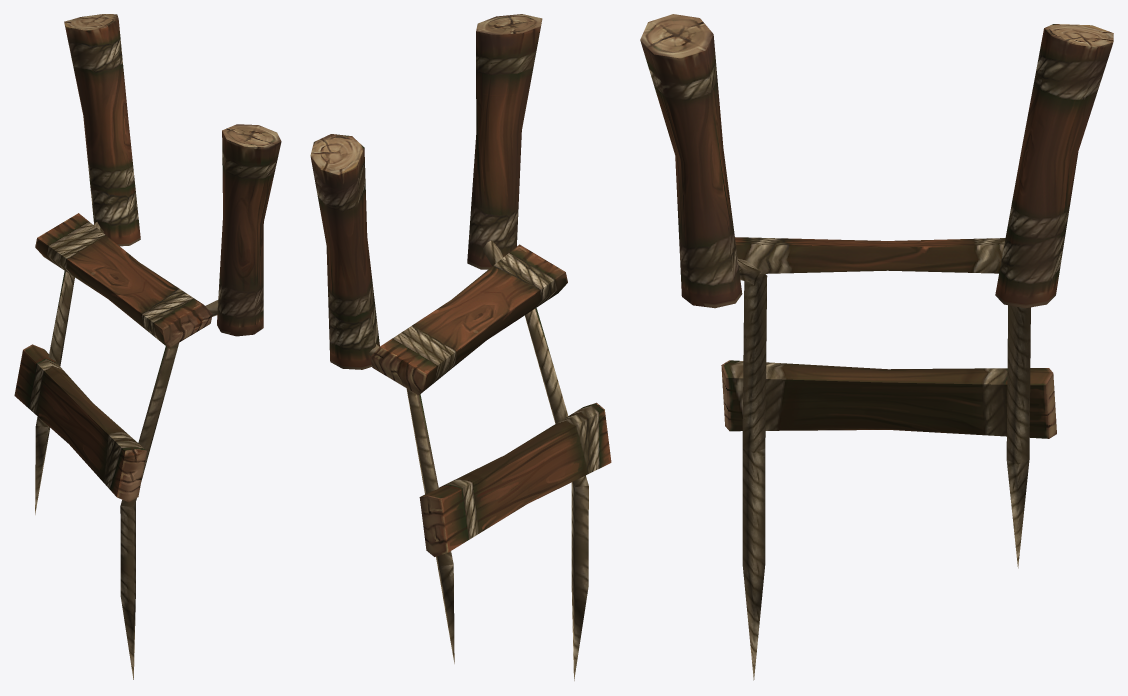
File: rope_bridge_ruin_l_small_02.fbx
3 renders of one model, left to right at view 1: azimuth 30°, elevation 25°; view 2: azimuth 150°, elevation 25°; view 3: azimuth 270°, elevation 25°, orthographic. The views are drawn at different scales.
Parts seen in each view (by area): view 1: rope_bridge_ruin_l_small_02; view 2: rope_bridge_ruin_l_small_02; view 3: rope_bridge_ruin_l_small_02.
Boxes of the visible parts, box(x1,y1,x2,y2) form: rope_bridge_ruin_l_small_02: box(14, 14, 281, 679); rope_bridge_ruin_l_small_02: box(310, 14, 611, 680); rope_bridge_ruin_l_small_02: box(640, 14, 1113, 680).
Bounding box in the file's own units: 81.74 × 308 × 186.
